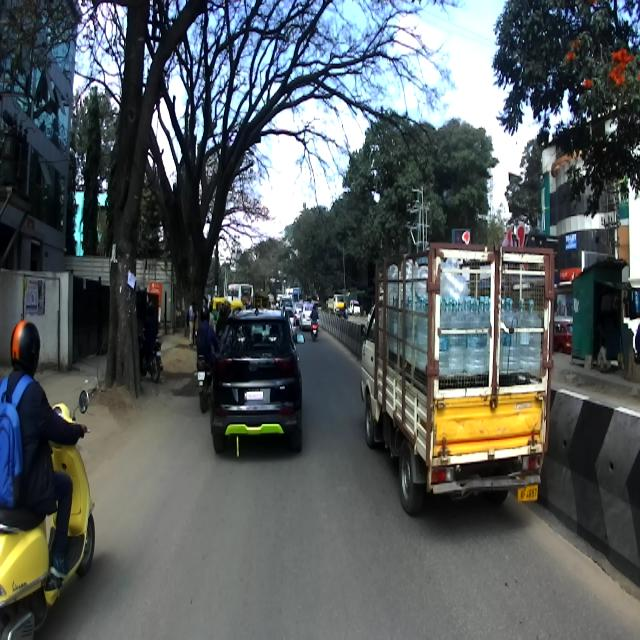car ahead at: (358, 250, 554, 505), (210, 299, 304, 459)
motorcycle ahead at: (0, 397, 103, 640)
tree ahead at: (99, 6, 167, 391)
